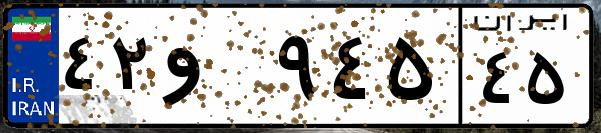2: (110, 28, 158, 98)
4: (330, 28, 385, 110), (57, 26, 110, 100), (475, 38, 525, 113)
5: (385, 28, 445, 110), (525, 38, 570, 115)
9: (270, 28, 330, 110)
و: (158, 20, 270, 120)
